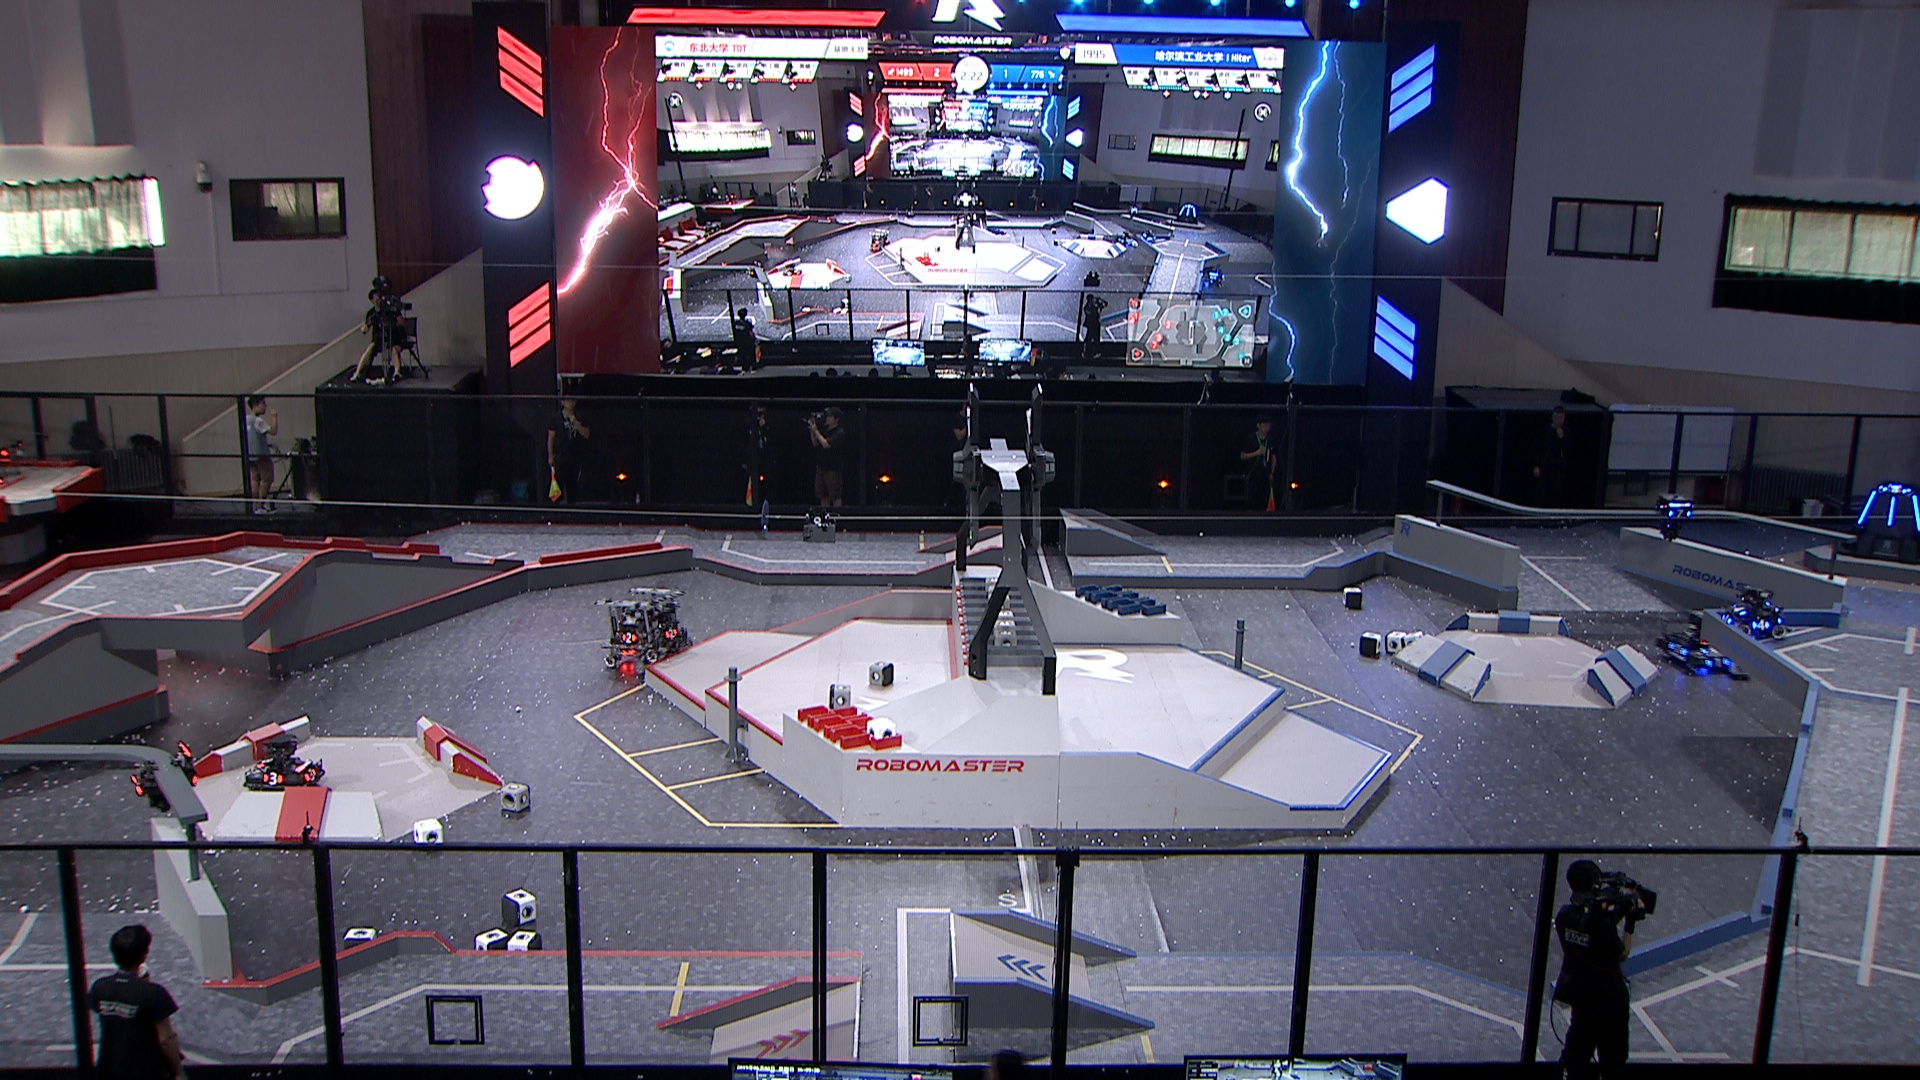armor: (1854, 488, 1878, 527), (258, 770, 285, 789), (125, 774, 145, 798), (1884, 496, 1899, 527), (1702, 657, 1733, 671), (1665, 506, 1693, 522), (1665, 641, 1689, 657), (1911, 493, 1920, 533), (1883, 484, 1911, 496), (301, 765, 318, 782), (661, 626, 680, 640), (618, 632, 638, 645), (1698, 645, 1720, 657), (1753, 618, 1771, 632), (1730, 605, 1750, 616), (1722, 612, 1735, 626)
base: (1833, 481, 1920, 564)
car: (593, 583, 694, 671), (1652, 609, 1735, 679), (243, 732, 324, 793), (1720, 585, 1787, 641)
ignore: (1176, 200, 1201, 225), (869, 229, 891, 255), (1116, 229, 1139, 251), (702, 222, 723, 243), (783, 258, 803, 280), (1207, 266, 1226, 285), (1139, 229, 1159, 244)
watcher: (123, 741, 199, 816), (1655, 491, 1695, 541)
